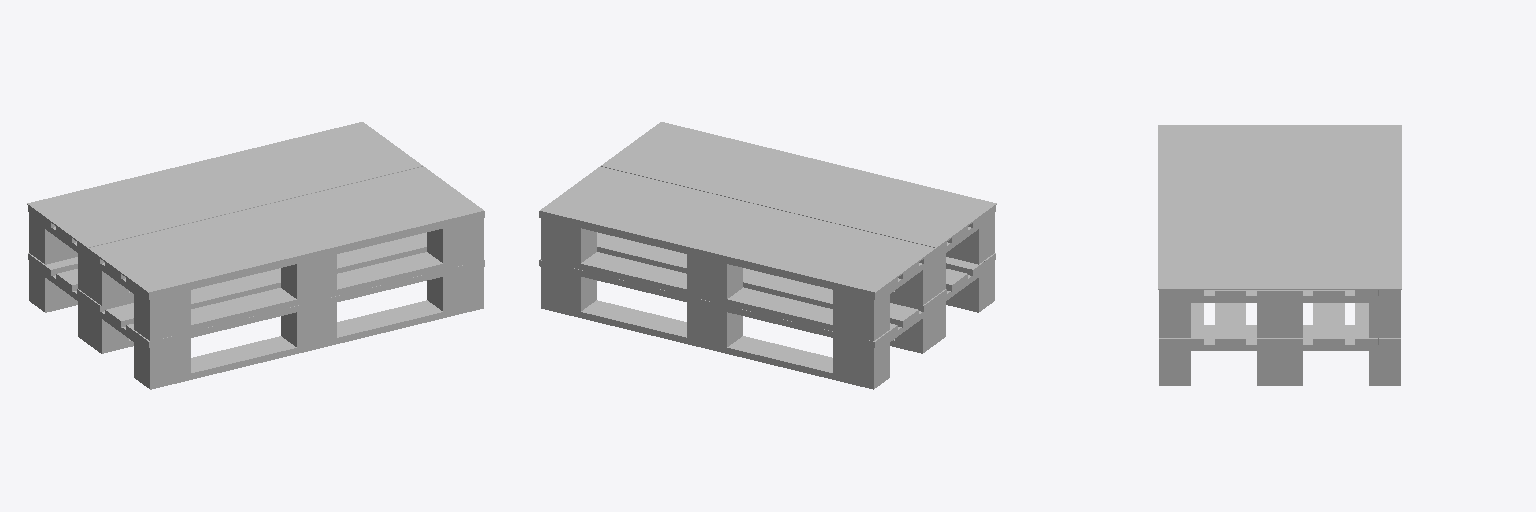
File: Palette_garden_table.obj
3 renders of one model, left to right at view 1: azimuth 30°, elevation 25°; view 2: azimuth 150°, elevation 25°; view 3: azimuth 270°, elevation 25°, orthographic.
Visible parts, largest first — view 1: Palette garden table_Concrete, Palette garden table_Pallete; view 2: Palette garden table_Concrete, Palette garden table_Pallete; view 3: Palette garden table_Concrete, Palette garden table_Pallete.
Part boxes in pixels (bbox=[...]): Palette garden table_Concrete: bbox=[27, 122, 484, 293]; Palette garden table_Pallete: bbox=[28, 206, 484, 389]; Palette garden table_Concrete: bbox=[539, 122, 996, 293]; Palette garden table_Pallete: bbox=[539, 206, 995, 389]; Palette garden table_Concrete: bbox=[1158, 125, 1401, 289]; Palette garden table_Pallete: bbox=[1159, 290, 1400, 385].
Bounding box in the file's own units: 1.21 × 0.337 × 0.7593.